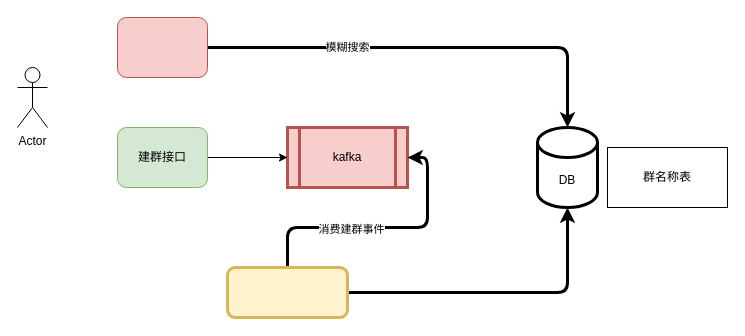
This 745x336 diagram has some shape labels left out. The shapes that lost their labels are listed below. From the top down, each one's box as (x1, y1, x2, y2) in pixels, then its label:
(116, 16, 208, 78): 群搜索接口
(226, 266, 348, 318): worker
